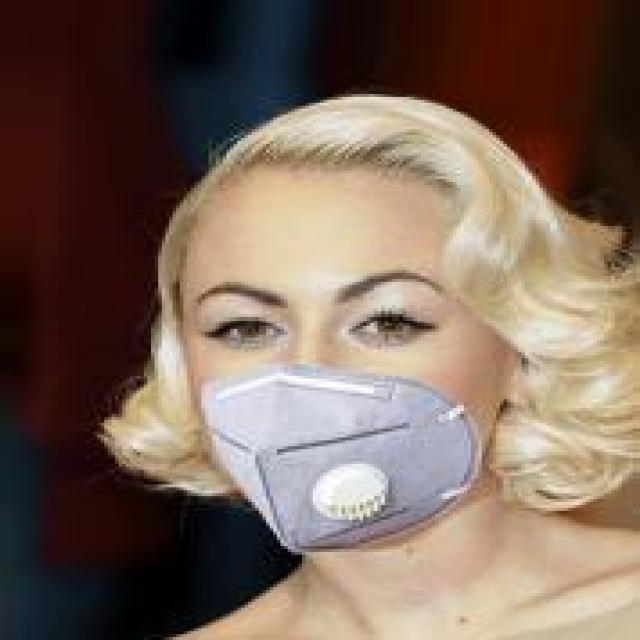mask: (151, 88, 608, 537)
